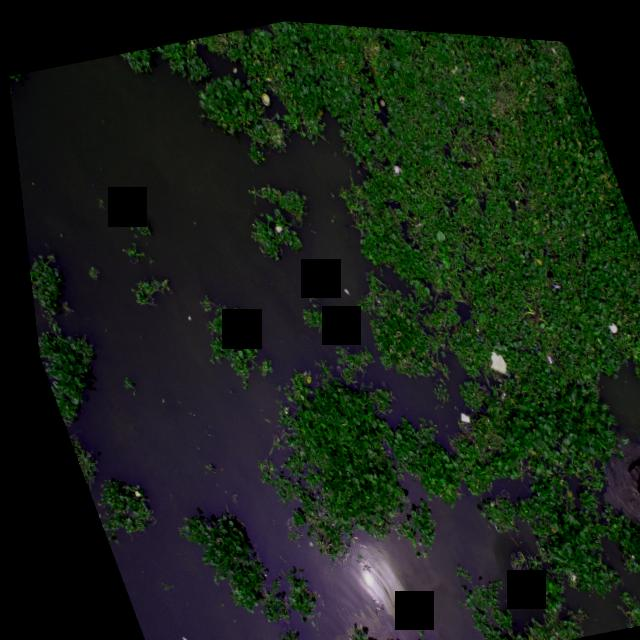plastic: (620, 478, 640, 533), (472, 341, 505, 372), (612, 445, 640, 474), (442, 398, 468, 423), (594, 303, 616, 331), (380, 150, 405, 174), (537, 267, 562, 289), (448, 82, 469, 102), (263, 211, 281, 231), (254, 86, 270, 104), (551, 560, 566, 576), (162, 626, 179, 640), (534, 344, 548, 359), (428, 251, 439, 263), (334, 279, 344, 292), (227, 61, 238, 72), (631, 324, 640, 337)
